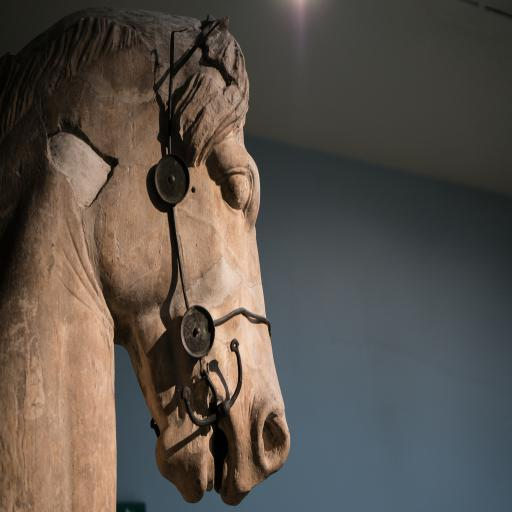horse: (2, 4, 292, 512)
